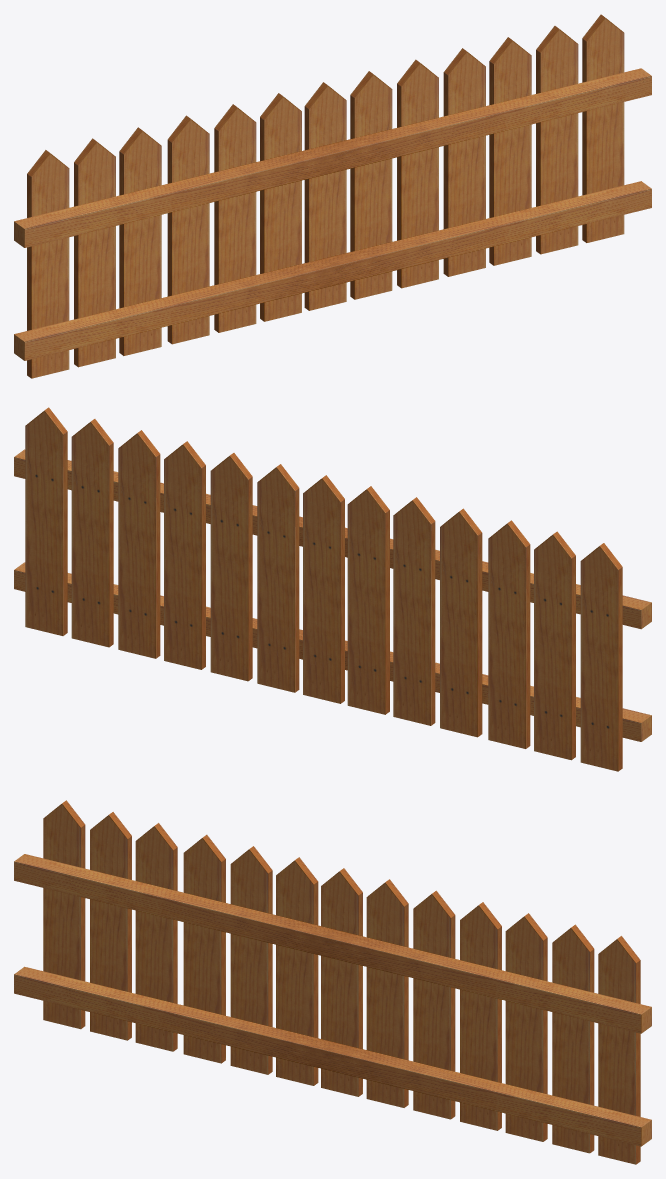
Rendered from play_fence_modular.FBX.
The picture shows the model from 3 angles, top to bottom: view 1: azimuth 30°, elevation 25°; view 2: azimuth 150°, elevation 25°; view 3: azimuth 330°, elevation 25°; orthographic projection.
Parts seen in each view (by area): view 1: Box001; view 2: Box001; view 3: Box001.
Boxes of the visible parts, x1,y1,x2,y2 form: Box001: (14, 14, 651, 378); Box001: (14, 407, 651, 771); Box001: (14, 800, 651, 1164).
Size of the model in its own units: 142 by 47.7 by 6.1.
